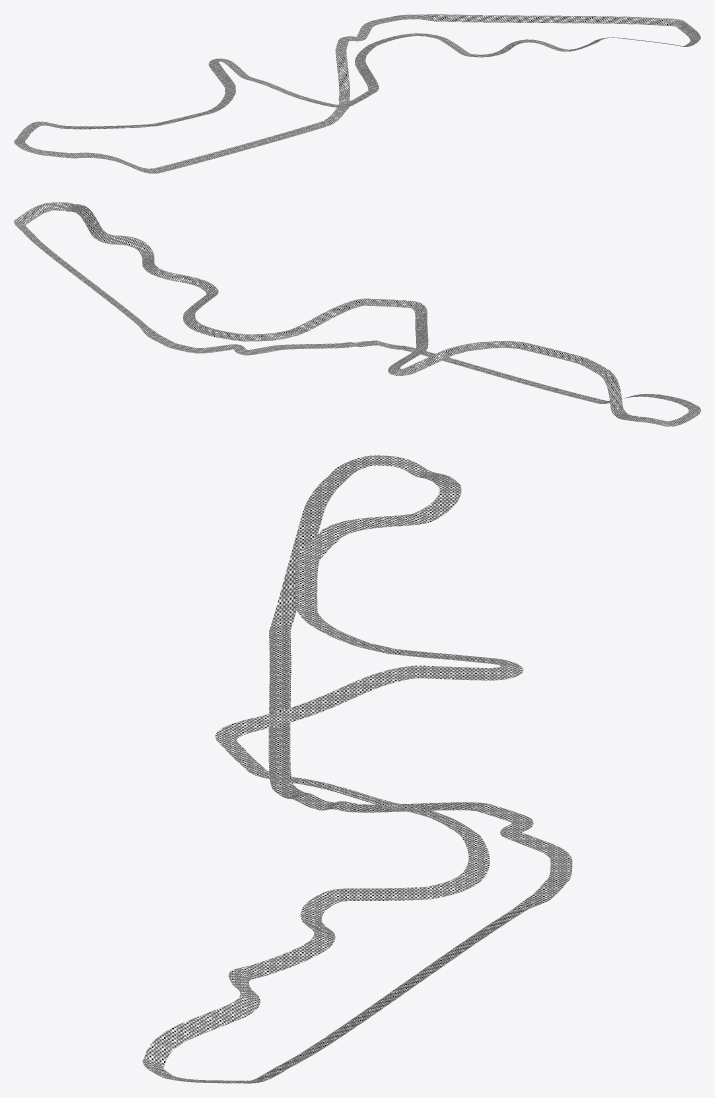
File: circ02_road.FBX
3 views of the same model, one above another, from view 1: azimuth 30°, elevation 25°; view 2: azimuth 150°, elevation 25°; view 3: azimuth 270°, elevation 25° (orthographic). The views are drawn at different scales.
Visible parts, largest first — view 1: circ02_road; view 2: circ02_road; view 3: circ02_road.
Part boxes in pixels (x1,y1,x2,y2): circ02_road: [14, 14, 700, 173]; circ02_road: [14, 202, 700, 426]; circ02_road: [142, 455, 572, 1083].
Bounding box in the file's own units: 740405 × 45293 × 217363.
1 material, 1 textured.
